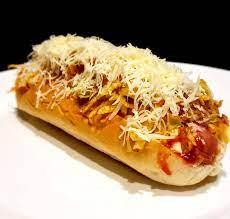Completos: (0, 21, 228, 193)
